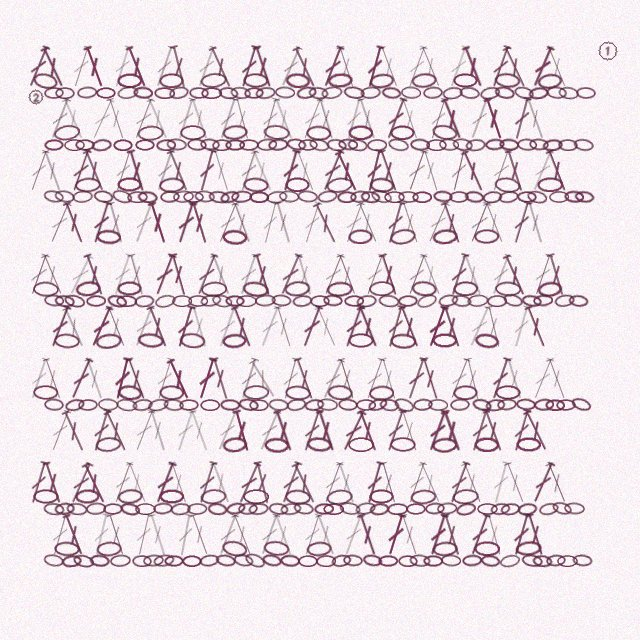chain: (32, 71, 59, 91), (53, 123, 81, 142), (389, 227, 417, 246), (431, 123, 458, 142), (221, 539, 248, 558), (326, 176, 353, 194), (494, 176, 521, 194), (242, 280, 269, 298), (95, 332, 122, 350), (326, 488, 353, 506), (369, 72, 395, 90), (537, 72, 563, 90), (537, 280, 563, 298), (474, 332, 500, 350), (200, 72, 227, 89), (494, 72, 521, 89), (263, 124, 290, 141), (284, 280, 311, 297), (137, 332, 164, 349), (179, 332, 206, 349), (95, 436, 122, 453), (200, 488, 227, 505), (452, 488, 479, 505), (263, 540, 290, 557), (515, 540, 542, 557), (243, 551, 267, 570), (285, 72, 311, 89), (327, 72, 353, 89), (411, 72, 437, 89), (222, 124, 248, 141), (432, 228, 458, 245), (75, 280, 101, 297), (411, 280, 437, 297), (117, 384, 143, 401), (327, 384, 353, 401), (222, 436, 248, 453), (306, 436, 332, 453), (117, 488, 143, 505), (137, 125, 164, 141), (326, 281, 353, 297), (410, 489, 437, 505), (75, 177, 101, 193), (159, 177, 185, 193), (243, 177, 269, 193), (369, 177, 395, 193), (33, 281, 59, 297), (201, 281, 227, 297), (495, 281, 521, 297), (54, 333, 80, 349), (390, 333, 416, 349), (285, 385, 311, 401), (285, 489, 311, 505), (54, 541, 80, 557), (96, 541, 122, 557), (306, 541, 332, 557), (432, 541, 458, 557), (306, 125, 331, 141), (96, 229, 121, 245), (222, 229, 247, 245), (222, 333, 247, 349), (369, 385, 394, 401), (264, 437, 289, 453), (432, 437, 457, 453), (416, 292, 438, 310), (393, 396, 415, 414), (370, 188, 393, 205), (180, 125, 206, 140), (537, 177, 563, 192), (369, 281, 395, 296), (348, 333, 374, 348), (243, 385, 269, 400), (495, 385, 521, 400), (348, 437, 374, 452), (390, 437, 416, 452), (33, 489, 59, 504), (243, 489, 269, 504), (474, 541, 500, 556), (117, 73, 142, 88), (159, 73, 184, 88), (243, 73, 268, 88), (453, 73, 478, 88), (348, 125, 373, 140), (390, 125, 415, 140), (117, 177, 142, 192), (285, 177, 310, 192), (348, 229, 373, 244), (474, 229, 499, 244), (117, 281, 142, 296), (453, 281, 478, 296), (432, 333, 457, 348), (33, 385, 58, 400), (159, 385, 184, 400), (453, 385, 478, 400), (474, 437, 499, 452), (516, 437, 541, 452), (75, 489, 100, 504), (159, 489, 184, 504), (369, 489, 394, 504), (111, 188, 133, 205), (502, 292, 524, 309), (367, 396, 389, 413), (570, 396, 592, 413), (551, 500, 573, 517), (387, 137, 410, 153), (63, 293, 86, 309), (154, 293, 177, 309), (147, 397, 170, 413), (72, 553, 95, 569), (479, 85, 501, 101), (513, 85, 535, 101), (308, 137, 330, 153), (219, 189, 241, 205), (526, 189, 548, 205), (106, 293, 128, 309), (211, 293, 233, 309), (64, 397, 86, 413), (471, 397, 493, 413), (119, 501, 141, 517), (455, 501, 477, 517), (538, 501, 560, 517), (499, 553, 521, 569), (117, 85, 139, 100), (168, 85, 190, 100), (321, 85, 343, 100), (343, 85, 365, 100), (200, 293, 222, 308), (225, 501, 247, 516), (339, 501, 361, 516), (153, 553, 175, 568), (261, 553, 283, 568), (521, 553, 543, 568), (296, 85, 317, 100), (494, 85, 515, 100), (286, 137, 307, 152), (452, 137, 473, 152), (43, 189, 64, 204), (54, 189, 75, 204), (93, 189, 114, 204), (317, 189, 338, 204), (438, 293, 459, 308), (554, 293, 575, 308), (238, 397, 259, 412), (286, 397, 307, 412), (293, 501, 314, 516), (355, 501, 376, 516), (43, 553, 64, 568), (199, 553, 220, 568), (215, 553, 236, 568), (233, 553, 254, 568), (331, 553, 352, 568), (362, 553, 383, 568), (208, 190, 230, 204), (266, 190, 288, 204), (378, 294, 400, 308), (116, 398, 138, 412), (43, 502, 65, 516), (66, 502, 88, 516), (280, 502, 302, 516), (218, 86, 239, 100), (230, 86, 251, 100), (255, 86, 276, 100), (308, 86, 329, 100), (381, 86, 402, 100), (442, 86, 463, 100), (459, 86, 480, 100), (528, 86, 549, 100), (558, 86, 579, 100), (91, 138, 112, 152), (326, 138, 347, 152), (347, 138, 368, 152), (465, 138, 486, 152), (542, 138, 563, 152), (573, 138, 594, 152), (137, 190, 158, 204), (360, 190, 381, 204), (464, 190, 485, 204), (482, 190, 503, 204), (498, 190, 519, 204), (574, 190, 595, 204), (54, 294, 75, 308), (134, 294, 155, 308), (292, 294, 313, 308), (356, 294, 377, 308), (451, 294, 472, 308), (521, 294, 542, 308), (568, 294, 589, 308), (132, 398, 153, 412), (163, 398, 184, 412), (268, 398, 289, 412), (304, 398, 325, 412), (379, 398, 400, 412), (485, 398, 506, 412), (170, 502, 191, 516), (207, 502, 228, 516), (248, 502, 269, 516), (268, 502, 289, 516), (369, 502, 390, 516), (490, 502, 511, 516), (500, 502, 521, 516), (517, 502, 538, 516), (61, 554, 82, 568), (480, 554, 501, 568), (532, 554, 553, 568), (467, 294, 489, 307), (409, 554, 431, 567), (360, 86, 381, 99), (546, 86, 567, 99), (166, 138, 187, 151), (72, 190, 93, 203), (173, 190, 194, 203), (194, 190, 215, 203), (231, 190, 252, 203), (297, 190, 318, 203), (255, 294, 276, 307), (271, 294, 292, 307), (317, 398, 338, 411), (54, 502, 75, 515), (564, 502, 585, 515), (89, 554, 110, 567), (110, 554, 131, 567), (143, 554, 164, 567), (572, 554, 593, 567), (77, 86, 97, 99), (133, 86, 153, 99), (275, 86, 295, 99), (401, 86, 421, 99), (423, 86, 443, 99), (187, 138, 207, 151), (200, 138, 220, 151), (257, 138, 277, 151), (268, 138, 288, 151), (338, 138, 358, 151), (410, 138, 430, 151), (439, 138, 459, 151), (485, 138, 505, 151), (499, 138, 519, 151), (517, 138, 537, 151), (529, 138, 549, 151), (160, 190, 180, 203), (279, 190, 299, 203), (350, 190, 370, 203), (433, 190, 453, 203), (564, 190, 584, 203), (44, 294, 64, 307), (323, 294, 343, 307), (533, 294, 553, 307), (44, 398, 64, 411), (98, 398, 118, 411), (338, 398, 358, 411), (413, 398, 433, 411), (450, 398, 470, 411), (497, 398, 517, 411), (516, 398, 536, 411), (534, 398, 554, 411), (86, 502, 106, 515), (153, 502, 173, 515), (238, 502, 258, 515), (425, 502, 445, 515), (437, 502, 457, 515), (280, 554, 300, 567), (343, 554, 363, 567), (441, 554, 461, 567), (462, 554, 482, 567), (546, 554, 566, 567), (154, 87, 175, 99), (201, 87, 222, 99), (64, 139, 85, 151), (426, 139, 447, 151), (127, 191, 148, 203), (183, 191, 204, 203), (384, 191, 405, 203), (398, 191, 419, 203), (116, 295, 137, 307), (236, 295, 257, 307), (135, 503, 156, 515), (323, 503, 344, 515), (387, 503, 408, 515), (477, 503, 498, 515), (557, 555, 578, 567), (44, 87, 64, 99), (55, 87, 75, 99), (96, 87, 116, 99), (189, 87, 209, 99), (244, 87, 264, 99), (576, 87, 596, 99), (44, 139, 64, 151), (75, 139, 95, 151), (113, 139, 133, 151), (135, 139, 155, 151), (156, 139, 176, 151), (212, 139, 232, 151), (225, 139, 245, 151), (239, 139, 259, 151), (298, 139, 318, 151), (367, 139, 387, 151), (558, 139, 578, 151), (249, 191, 269, 203), (337, 191, 357, 203), (412, 191, 432, 203), (449, 191, 469, 203), (517, 191, 537, 203), (549, 191, 569, 203), (86, 295, 106, 307), (172, 295, 192, 307), (188, 295, 208, 307), (225, 295, 245, 307), (310, 295, 330, 307), (344, 295, 364, 307), (398, 295, 418, 307), (487, 295, 507, 307), (78, 399, 98, 411), (179, 399, 199, 411), (200, 399, 220, 411), (220, 399, 240, 411), (249, 399, 269, 411), (356, 399, 376, 411), (428, 399, 448, 411), (545, 399, 565, 411), (556, 399, 576, 411), (103, 503, 123, 515), (187, 503, 207, 515), (314, 503, 334, 515), (406, 503, 426, 515), (132, 555, 152, 567), (164, 555, 184, 567), (182, 555, 202, 567), (298, 555, 318, 567), (316, 555, 336, 567), (378, 555, 398, 567), (398, 555, 418, 567), (423, 555, 443, 567)
double: (246, 357, 280, 400), (520, 408, 552, 453), (415, 460, 446, 505), (66, 460, 96, 506), (310, 201, 341, 245), (65, 253, 96, 297), (338, 409, 369, 453), (79, 461, 110, 505), (289, 461, 320, 505), (276, 44, 306, 89), (542, 44, 572, 89), (143, 96, 173, 141), (423, 200, 453, 245), (311, 304, 341, 349), (66, 356, 96, 401), (528, 460, 558, 505), (542, 460, 572, 505), (38, 45, 68, 89), (206, 45, 236, 89), (290, 45, 320, 89), (500, 45, 530, 89), (87, 97, 117, 141), (332, 149, 362, 193), (458, 149, 488, 193), (500, 253, 530, 297), (59, 305, 89, 349), (164, 357, 194, 401), (318, 357, 348, 401), (59, 409, 89, 453), (101, 409, 131, 453), (234, 461, 264, 505), (24, 44, 53, 89), (416, 44, 445, 89), (528, 44, 557, 89), (59, 96, 88, 141), (129, 96, 158, 141), (80, 148, 109, 193), (164, 148, 193, 193), (248, 148, 277, 193), (318, 148, 347, 193), (528, 148, 557, 193), (45, 200, 74, 245), (213, 200, 242, 245), (353, 200, 382, 245), (465, 200, 494, 245), (38, 252, 67, 297), (150, 252, 179, 297), (192, 252, 221, 297), (276, 252, 305, 297), (87, 304, 116, 349), (395, 304, 424, 349), (465, 304, 494, 349), (122, 356, 151, 401), (528, 356, 557, 401), (213, 408, 242, 453), (255, 408, 284, 453), (458, 460, 487, 505), (123, 44, 151, 89), (319, 44, 347, 89), (375, 44, 403, 89), (459, 44, 487, 89), (46, 96, 74, 141), (270, 96, 298, 141), (298, 96, 326, 141), (382, 96, 410, 141), (396, 96, 424, 141), (438, 96, 466, 141), (67, 148, 95, 193), (291, 148, 319, 193), (403, 148, 431, 193), (487, 148, 515, 193), (543, 148, 571, 193), (60, 200, 88, 245), (130, 200, 158, 245), (228, 200, 256, 245), (340, 200, 368, 245), (480, 200, 508, 245), (25, 252, 53, 297), (207, 252, 235, 297), (319, 252, 347, 297), (333, 252, 361, 297), (417, 252, 445, 297), (459, 252, 487, 297), (487, 252, 515, 297), (46, 304, 74, 349), (102, 304, 130, 349), (130, 304, 158, 349), (144, 304, 172, 349), (228, 304, 256, 349), (256, 304, 284, 349), (298, 304, 326, 349), (340, 304, 368, 349), (354, 304, 382, 349), (522, 304, 550, 349), (445, 356, 473, 401), (543, 356, 571, 401), (46, 408, 74, 453), (130, 408, 158, 453), (354, 408, 382, 453), (438, 408, 466, 453), (123, 460, 151, 505), (151, 460, 179, 505), (207, 460, 235, 505), (277, 460, 305, 505), (445, 460, 473, 505), (501, 460, 529, 505), (60, 512, 88, 557), (214, 512, 242, 557), (228, 512, 256, 557), (312, 512, 340, 557), (81, 44, 108, 89), (151, 44, 178, 89), (193, 44, 220, 89), (333, 44, 360, 89), (403, 44, 430, 89), (445, 44, 472, 89), (487, 44, 514, 89), (186, 96, 213, 141), (354, 96, 381, 141), (466, 96, 493, 141), (522, 96, 549, 141), (25, 148, 52, 193), (39, 148, 66, 193), (235, 148, 262, 193), (375, 148, 402, 193), (88, 200, 115, 245), (438, 200, 465, 245), (81, 252, 108, 297), (109, 252, 136, 297), (235, 252, 262, 297), (361, 252, 388, 297), (403, 252, 430, 297), (529, 252, 556, 297), (214, 304, 241, 349), (424, 304, 451, 349), (39, 356, 66, 401), (81, 356, 108, 401), (291, 356, 318, 401), (361, 356, 388, 401), (403, 356, 430, 401), (417, 356, 444, 401), (487, 356, 514, 401), (172, 408, 199, 453), (186, 408, 213, 453), (270, 408, 297, 453), (382, 408, 409, 453), (396, 408, 423, 453), (424, 408, 451, 453), (480, 408, 507, 453), (109, 460, 136, 505), (165, 460, 192, 505), (319, 460, 346, 505), (333, 460, 360, 505), (403, 460, 430, 505), (186, 512, 213, 557), (256, 512, 283, 557), (270, 512, 297, 557), (340, 512, 367, 557), (354, 512, 381, 557), (396, 512, 423, 557), (466, 512, 493, 557), (68, 44, 94, 89), (236, 44, 262, 89), (250, 44, 276, 89), (103, 96, 129, 141), (173, 96, 199, 141), (215, 96, 241, 141), (257, 96, 283, 141), (313, 96, 339, 141), (425, 96, 451, 141), (481, 96, 507, 141), (110, 148, 136, 193), (152, 148, 178, 193), (208, 148, 234, 193), (502, 148, 528, 193), (145, 200, 171, 245), (173, 200, 199, 245), (299, 200, 325, 245), (397, 200, 423, 245), (376, 252, 402, 297), (446, 252, 472, 297), (439, 304, 465, 349), (26, 356, 52, 401), (194, 356, 220, 401), (236, 356, 262, 401), (334, 356, 360, 401), (145, 408, 171, 453), (299, 408, 325, 453), (313, 408, 339, 453), (467, 408, 493, 453), (40, 460, 66, 505), (194, 460, 220, 505), (47, 512, 73, 557), (103, 512, 129, 557), (145, 512, 171, 557), (299, 512, 325, 557), (383, 512, 409, 557), (425, 512, 451, 557), (439, 512, 465, 557), (110, 44, 135, 89), (124, 148, 149, 193), (278, 148, 303, 193), (418, 148, 443, 193), (187, 200, 212, 245), (271, 200, 296, 245), (383, 200, 408, 245), (509, 200, 534, 245), (523, 200, 548, 245), (124, 252, 149, 297), (166, 252, 191, 297), (250, 252, 275, 297), (292, 252, 317, 297), (544, 252, 569, 297), (173, 304, 198, 349), (187, 304, 212, 349), (271, 304, 296, 349), (383, 304, 408, 349), (509, 304, 534, 349), (152, 356, 177, 401), (208, 356, 233, 401), (278, 356, 303, 401), (376, 356, 401, 401), (502, 356, 527, 401), (89, 408, 114, 453), (509, 408, 534, 453), (26, 460, 51, 505), (362, 460, 387, 505), (376, 460, 401, 505), (509, 512, 534, 557), (523, 512, 548, 557), (167, 44, 191, 89), (363, 44, 387, 89), (230, 96, 254, 141), (342, 96, 366, 141), (510, 96, 534, 141), (195, 148, 219, 193), (447, 148, 471, 193), (104, 200, 128, 245), (258, 200, 282, 245), (230, 408, 254, 453), (489, 460, 513, 505), (482, 512, 506, 557), (363, 148, 386, 193), (482, 304, 505, 349), (111, 356, 134, 401), (461, 356, 484, 401), (251, 460, 274, 505), (90, 512, 113, 557), (132, 512, 155, 557), (175, 513, 196, 557)
noise: (596, 39, 619, 62), (26, 87, 46, 107)
